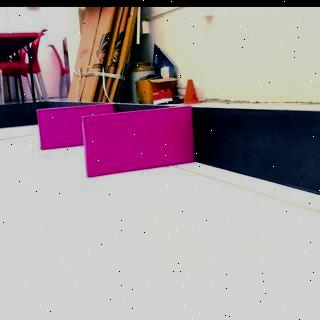xparking: (82, 115, 192, 168), (37, 107, 81, 145)
